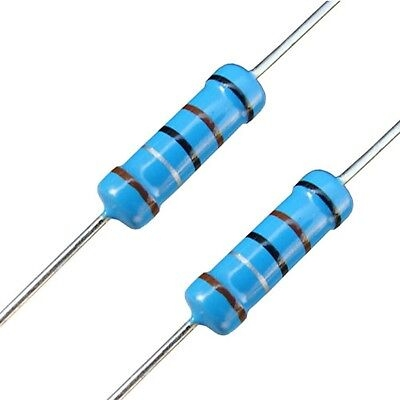resistor: (77, 44, 284, 250), (163, 148, 370, 354)
